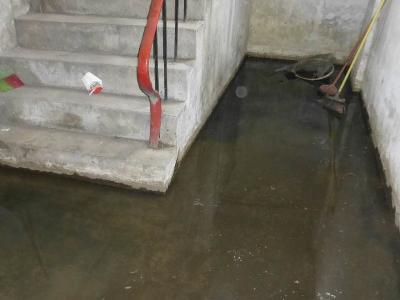bowl: (292, 55, 334, 82)
